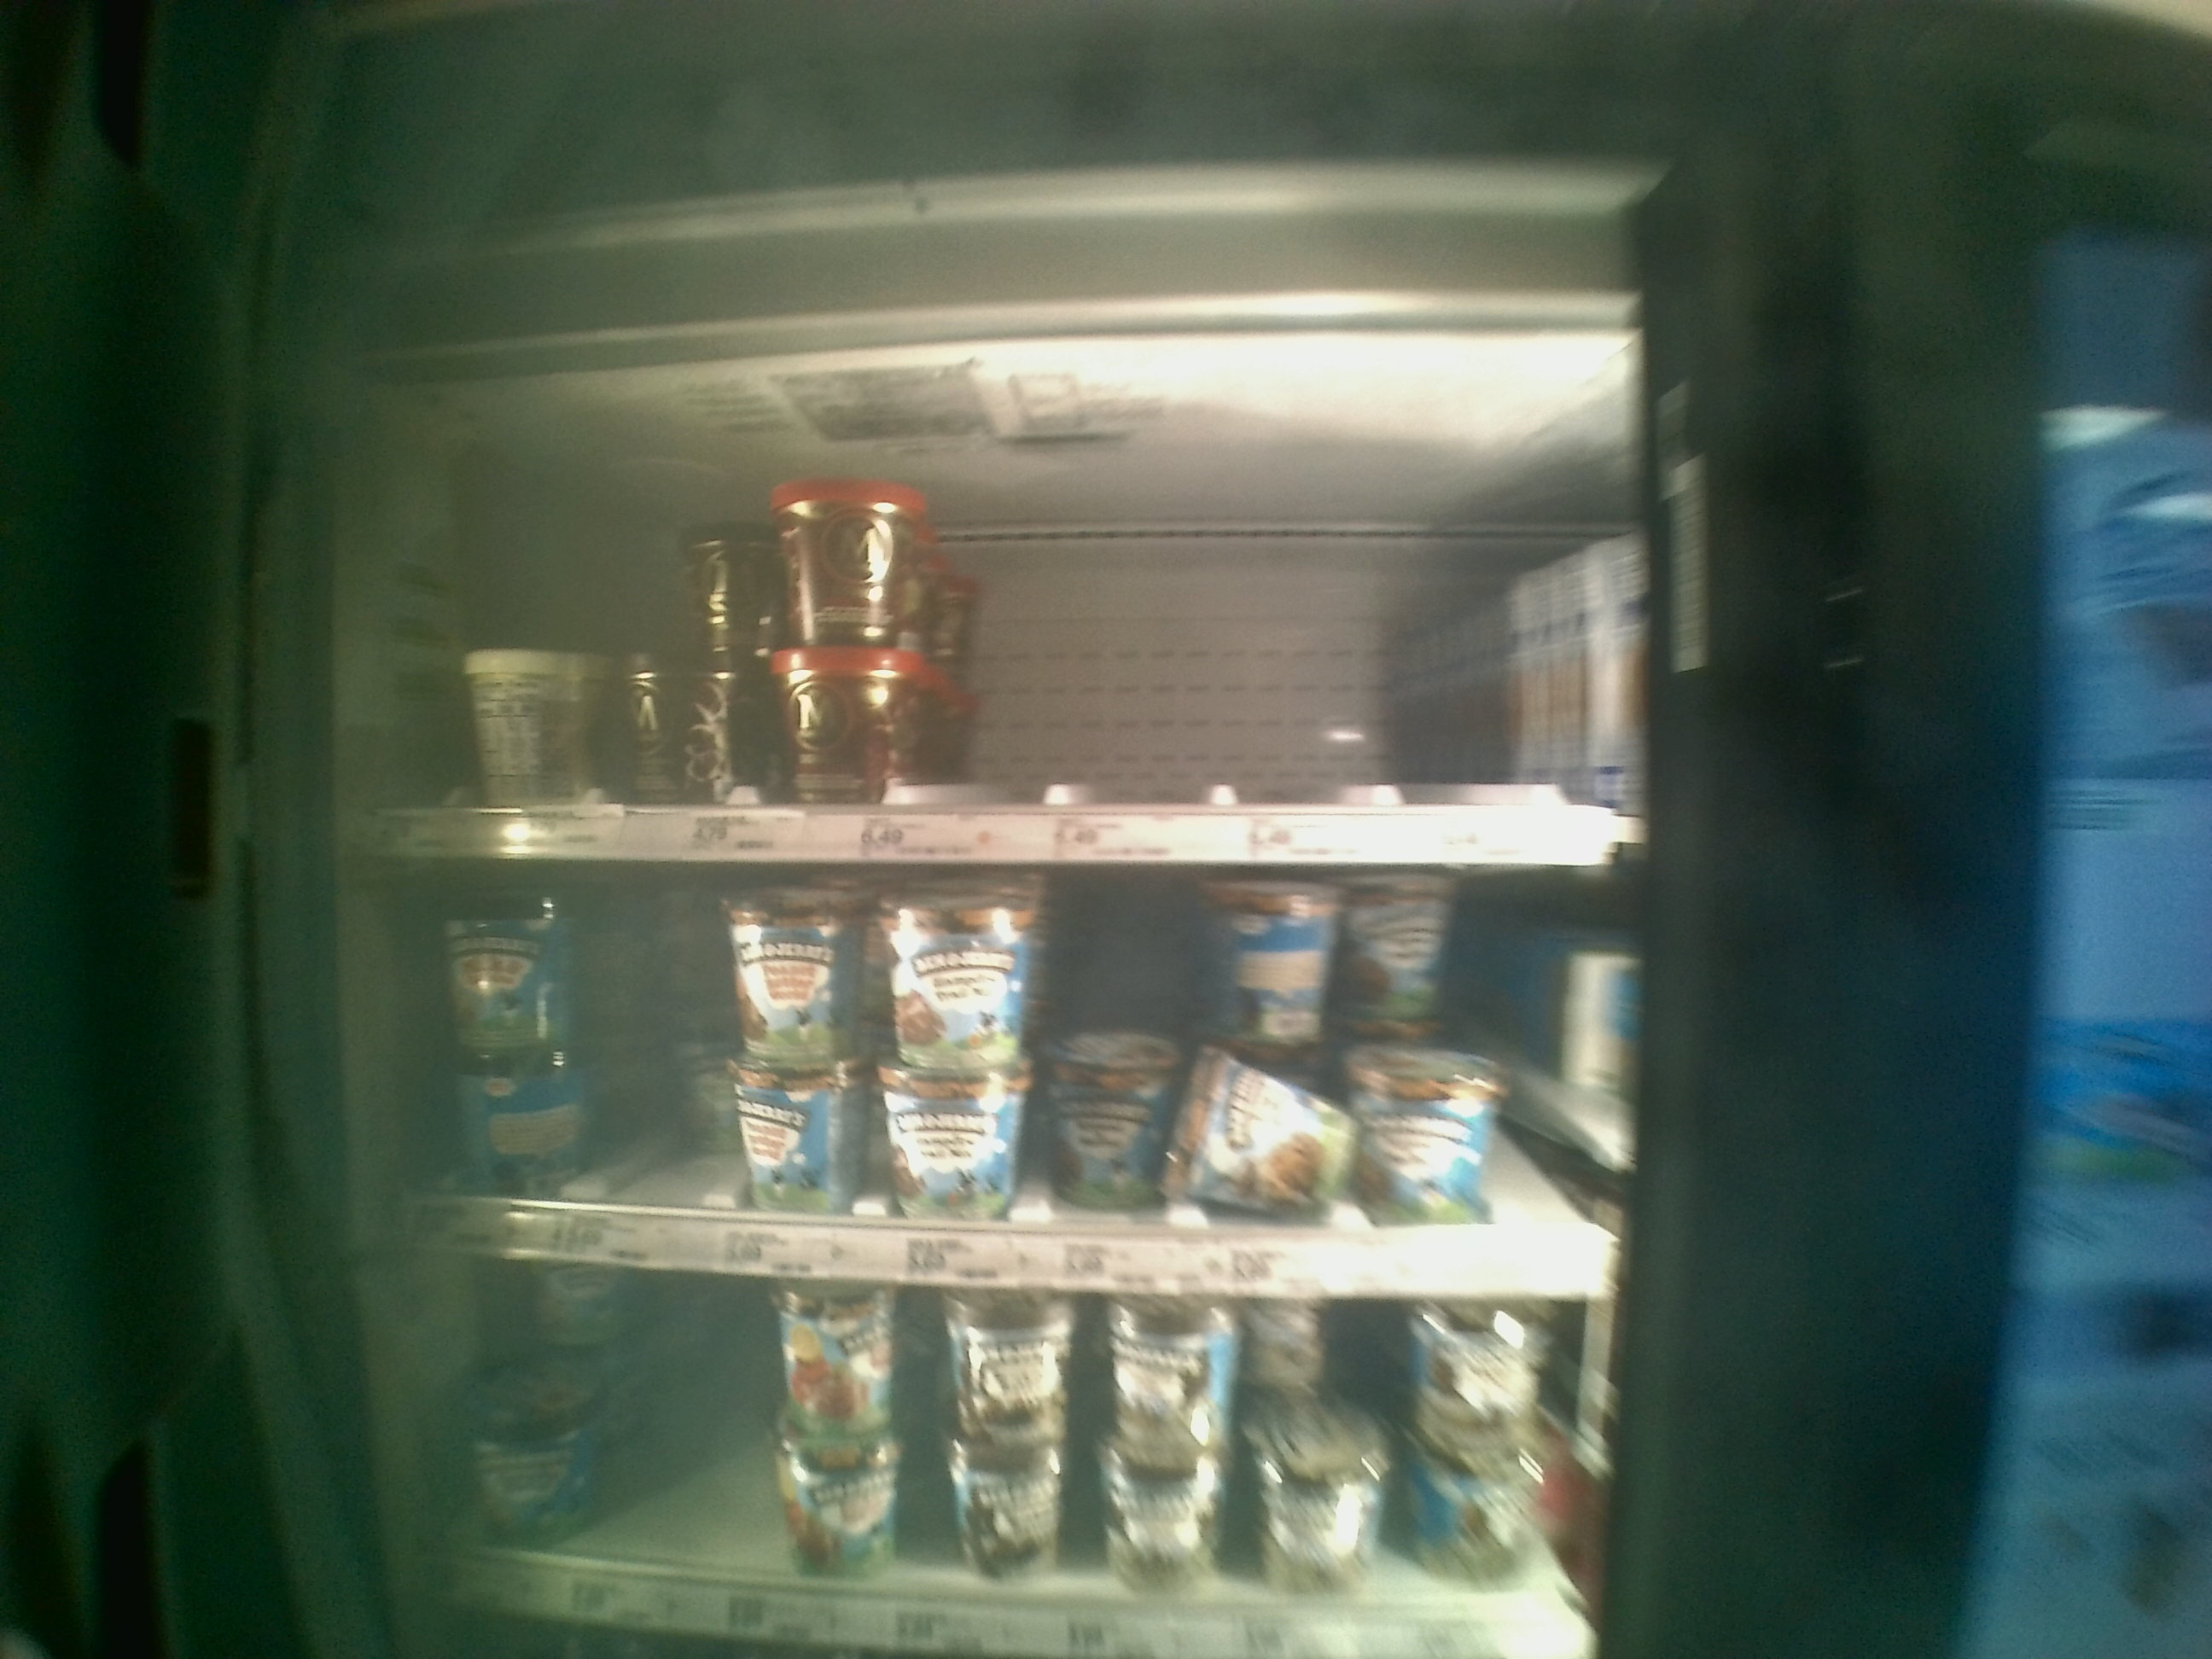ice-cream-shelf: (334, 420, 1629, 868)
